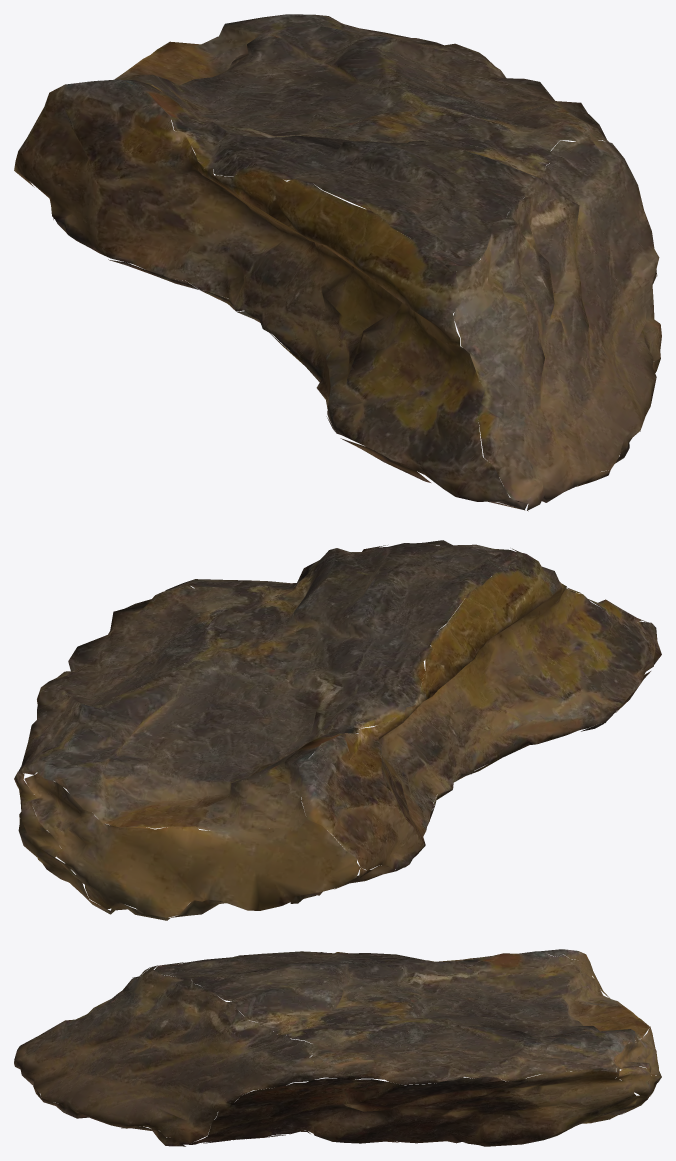
Rendered from rock-09.glb.
3 views of the same model, one above another, from view 1: azimuth 30°, elevation 25°; view 2: azimuth 150°, elevation 25°; view 3: azimuth 270°, elevation 25° (orthographic). The views are drawn at different scales.
Parts seen in each view (by area): view 1: rock_09; view 2: rock_09; view 3: rock_09.
Part boxes in pixels (x1,y1,x2,y2): rock_09: [14, 14, 661, 511]; rock_09: [14, 540, 661, 920]; rock_09: [14, 949, 661, 1146].
Size of the model in its own units: 0.0741 by 0.0328 by 0.1449.
1 material, 1 textured.
